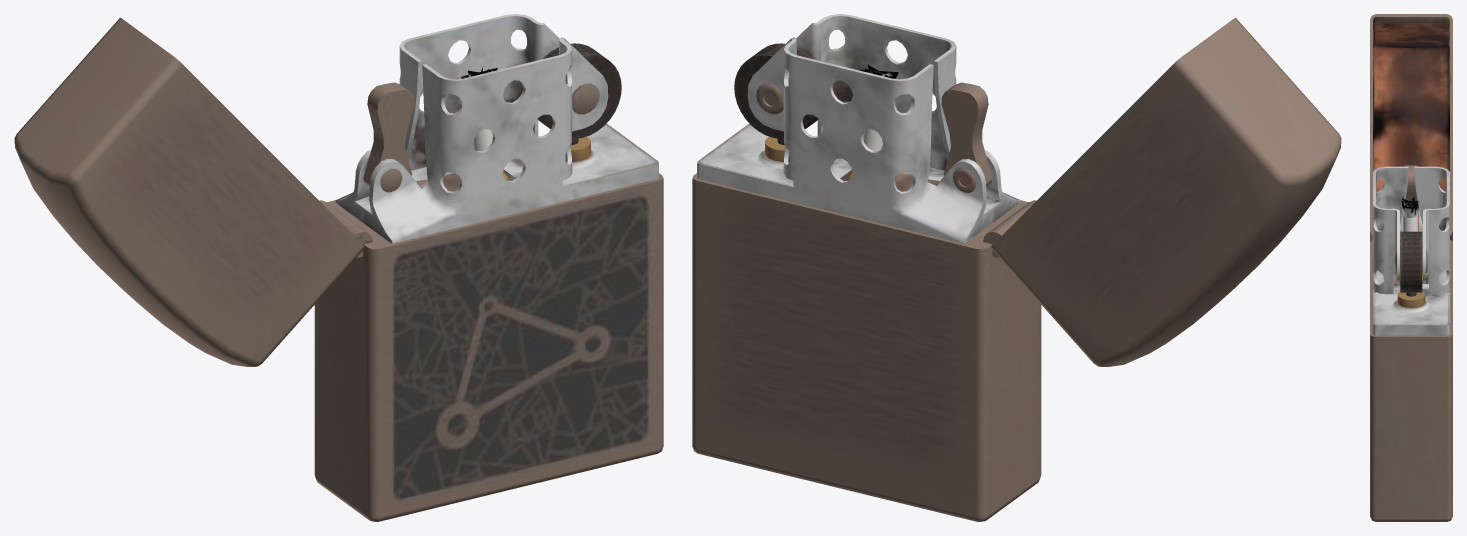
Rendered from ph_vintage_lighter.glb.
3 views of the same model, side by side, from view 1: azimuth 30°, elevation 25°; view 2: azimuth 150°, elevation 25°; view 3: azimuth 270°, elevation 25° (orthographic). The views are drawn at different scales.
Visible parts, largest first — view 1: vintage_lighter_body; view 2: vintage_lighter_body; view 3: vintage_lighter_body.
Boxes of the visible parts, <box> form: vintage_lighter_body: <box>14,14,663,521</box>; vintage_lighter_body: <box>692,14,1341,521</box>; vintage_lighter_body: <box>1370,14,1452,521</box>.
Size of the model in its own units: 0.0796 by 0.065 by 0.014.
2 materials, 2 textured.
